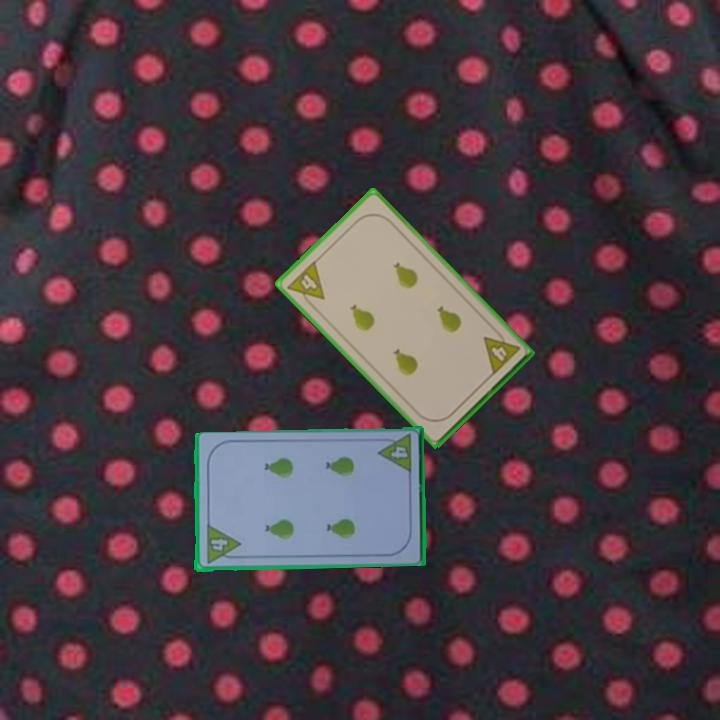4p: (283, 257, 327, 312), (479, 325, 523, 378), (374, 431, 415, 475), (202, 522, 242, 567)
